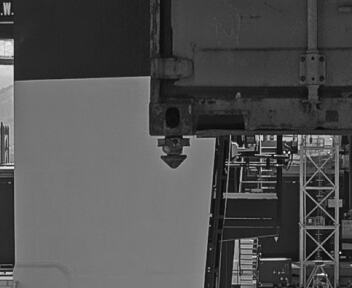twist_lock_2: (256, 117, 297, 154)
